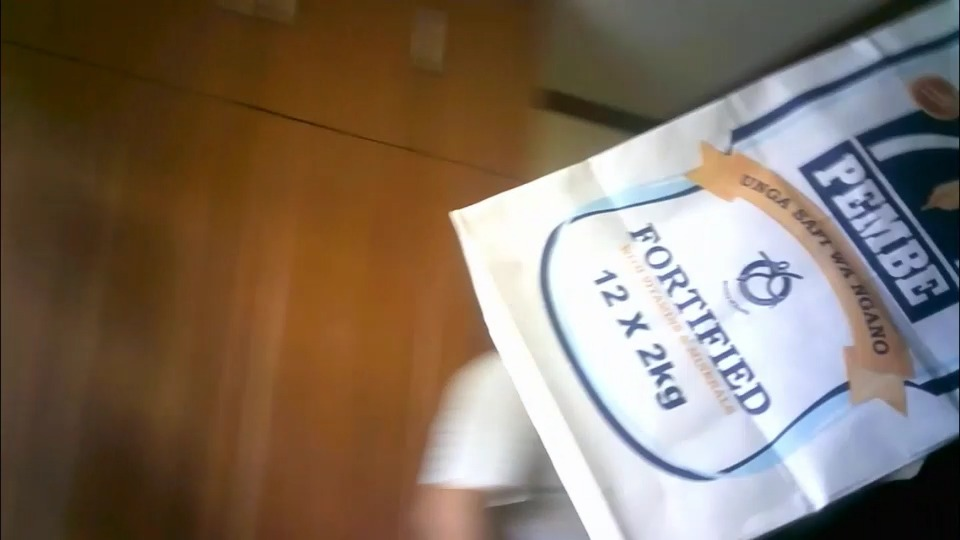wheat_flour_blue_label: (445, 2, 960, 540)
